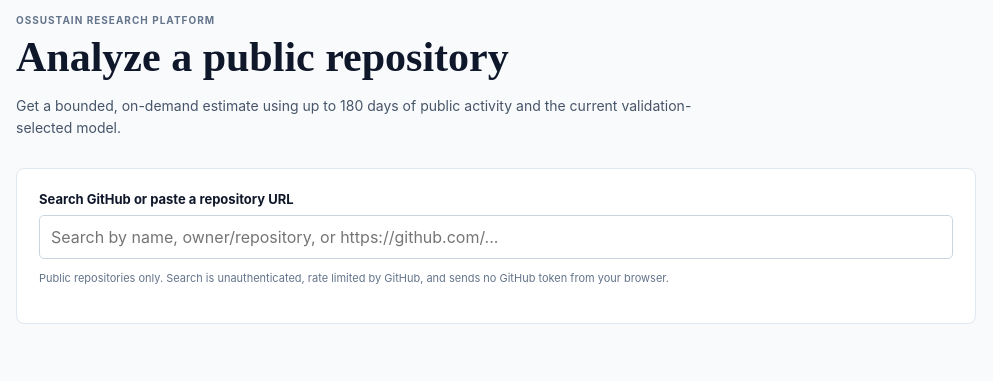
it: AnalysisPage › shows an empty state when GitHub finds no public repositories
Type "no-such-project" into the field labelled "Search GitHub or paste a repository URL" at (496, 237), box [39,215,953,259]
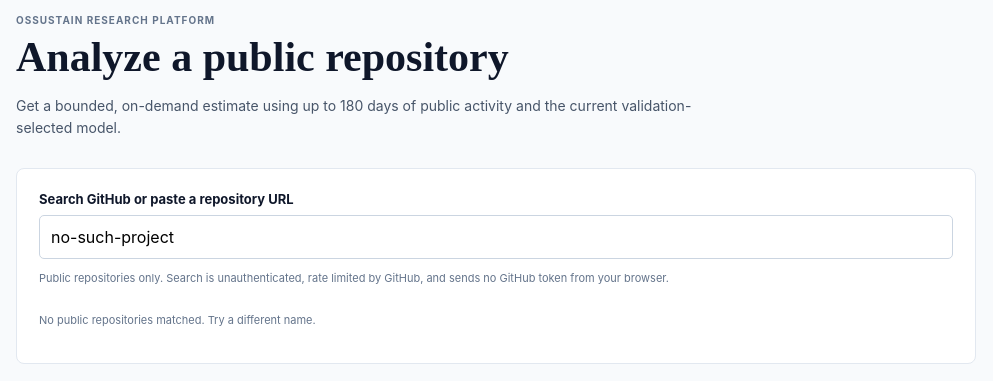
Now the text "No public repositories matched. Try a different name." is shown, box [39,313,316,327]
